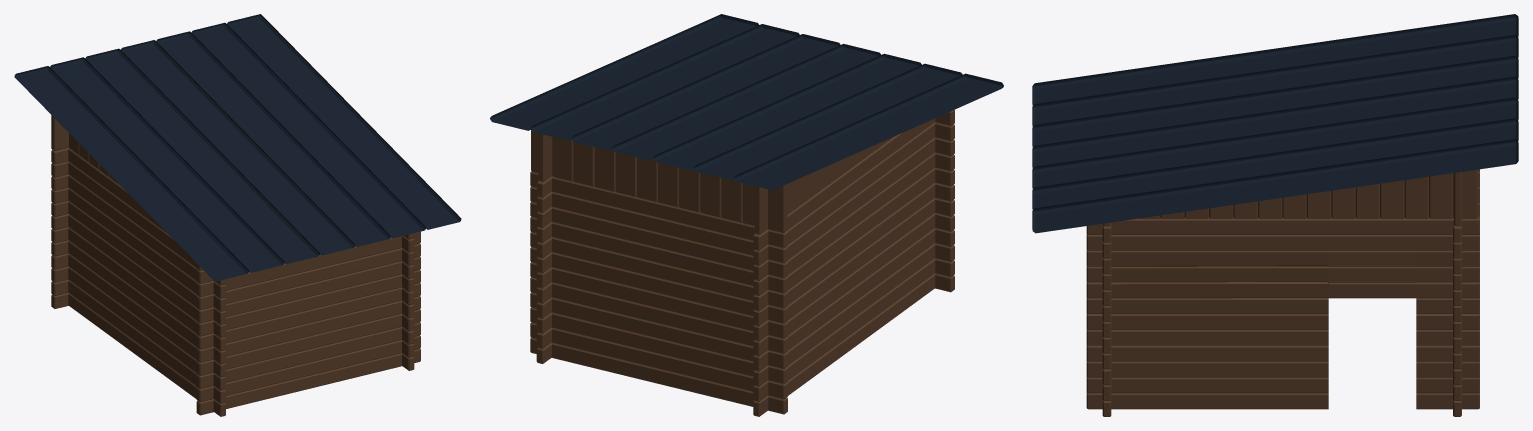
Rendered from LittleCottage.fbx.
3 views of the same model, side by side, from view 1: azimuth 30°, elevation 25°; view 2: azimuth 150°, elevation 25°; view 3: azimuth 270°, elevation 25° (orthographic). The views are drawn at different scales.
Parts seen in each view (by area): view 1: Cottage; view 2: Cottage; view 3: Cottage.
Boxes of the visible parts, bbox=[...] form: Cottage: bbox=[14, 14, 461, 416]; Cottage: bbox=[490, 14, 1003, 416]; Cottage: bbox=[1032, 14, 1518, 416].
Bounding box in the file's own units: 789 × 671 × 1112.
